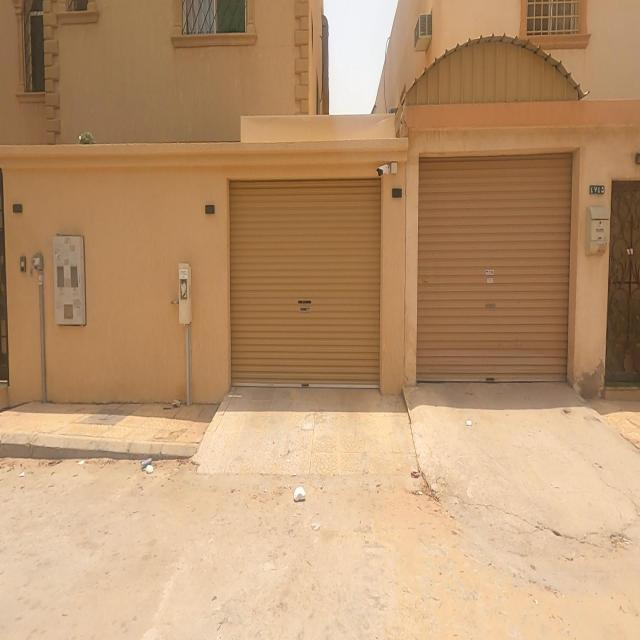debris: (263, 460, 328, 530), (123, 418, 174, 506)
